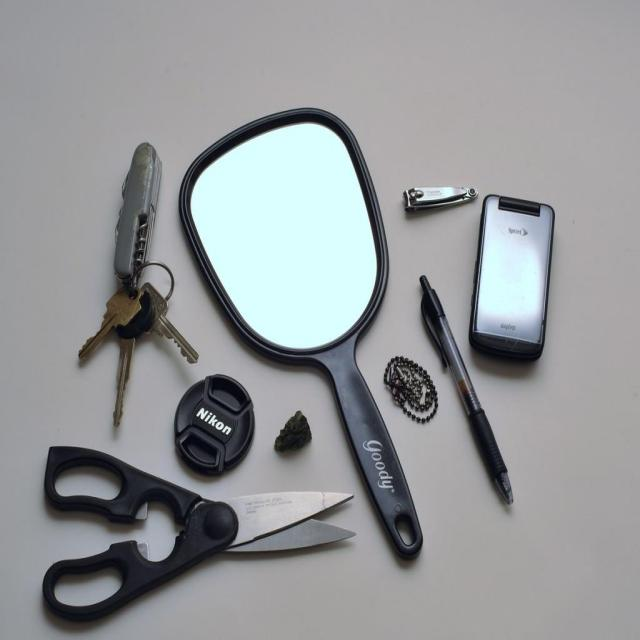scissor: (42, 439, 355, 623)
